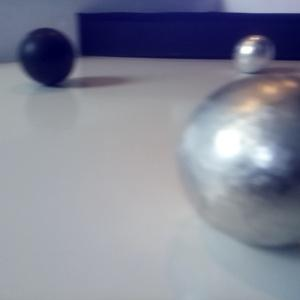zone: (76, 11, 300, 59)
